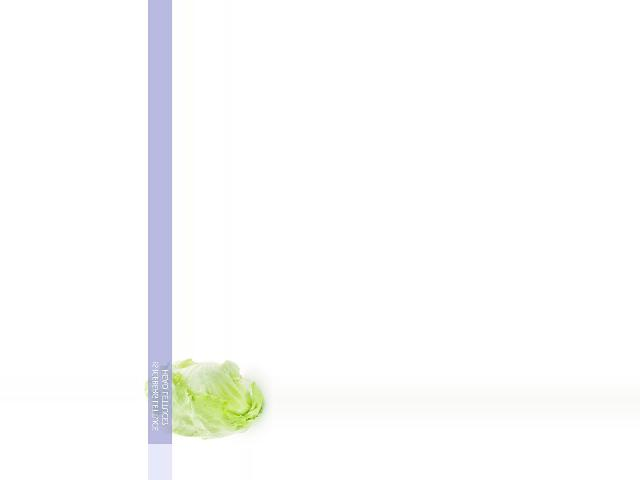lettuce: (144, 358, 269, 436)
